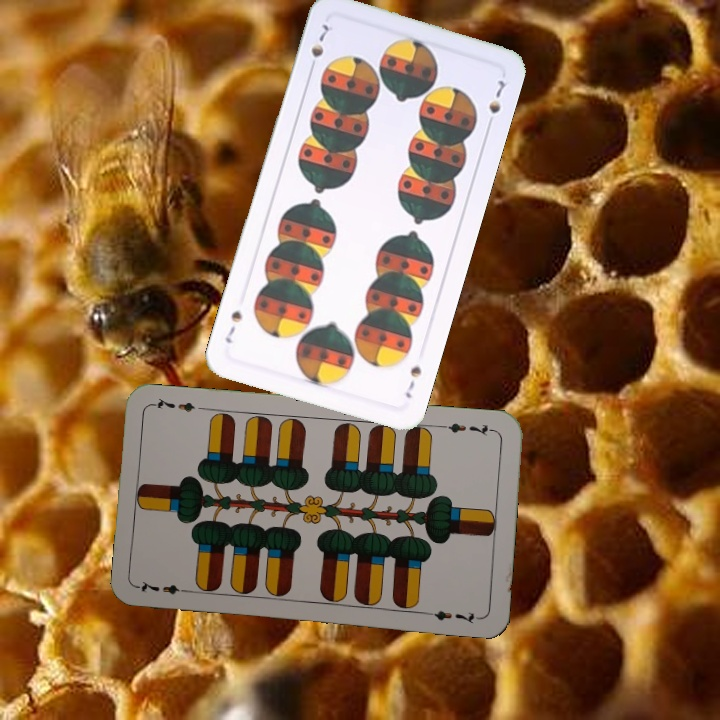E7: (438, 419, 497, 439), (135, 577, 194, 597)
S7: (305, 20, 332, 75), (401, 362, 424, 401)
